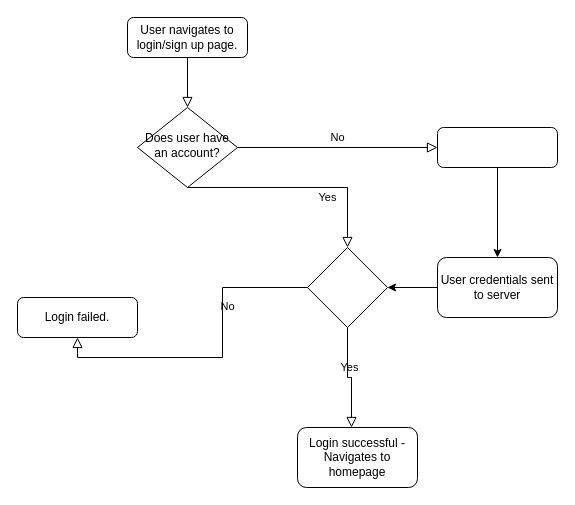
The diagram is 575 pixels wide and 505 high, and some of its shapes have lost their labels. The centre of each missing label's shape, as x and y in pixels:
"Credentials are correct" goes at [347,287].
"User registers for an account." goes at [497,147].
